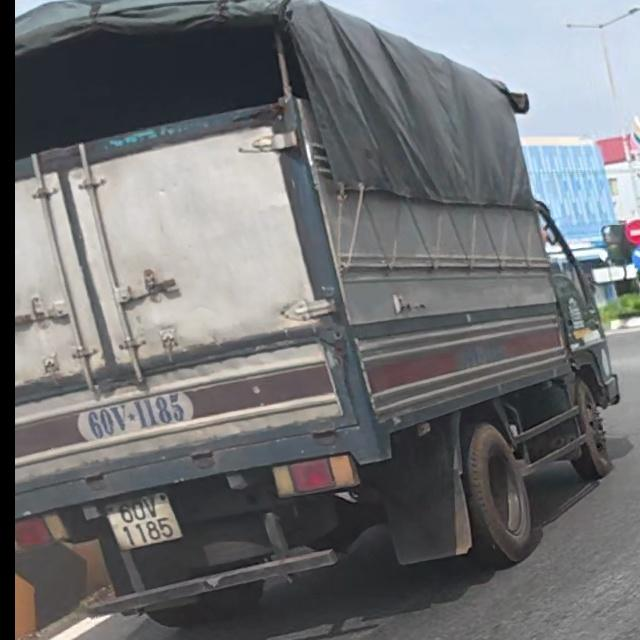license-plate: (104, 493, 185, 550)
